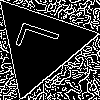L: (15, 19, 70, 61)
